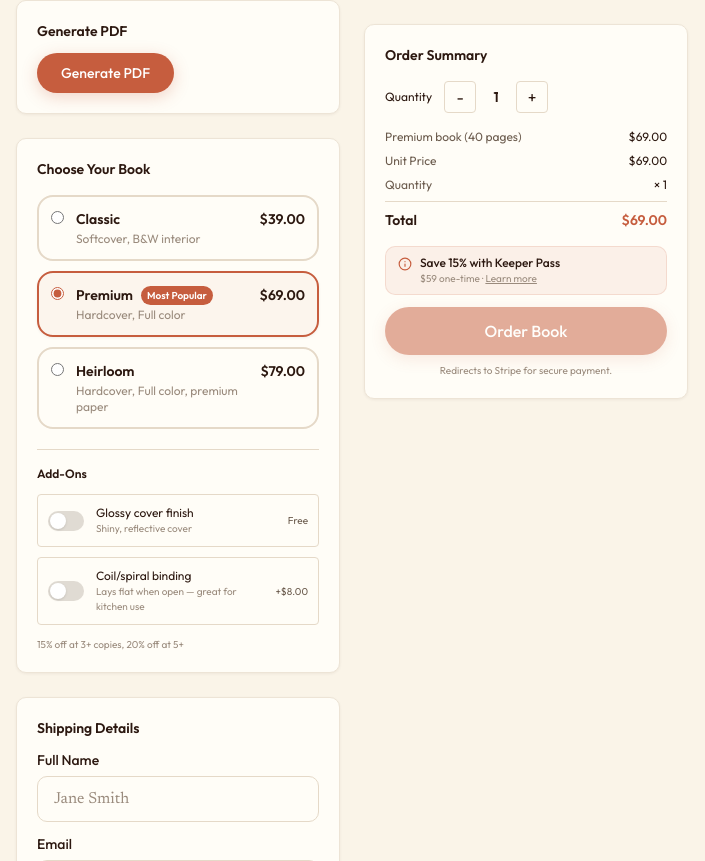
Test case: OrderPanel › shows multi-copy discount when quantity >= 3
The image size is (705, 861).
Click the button "+" at (532, 97), box [516,81,548,113]
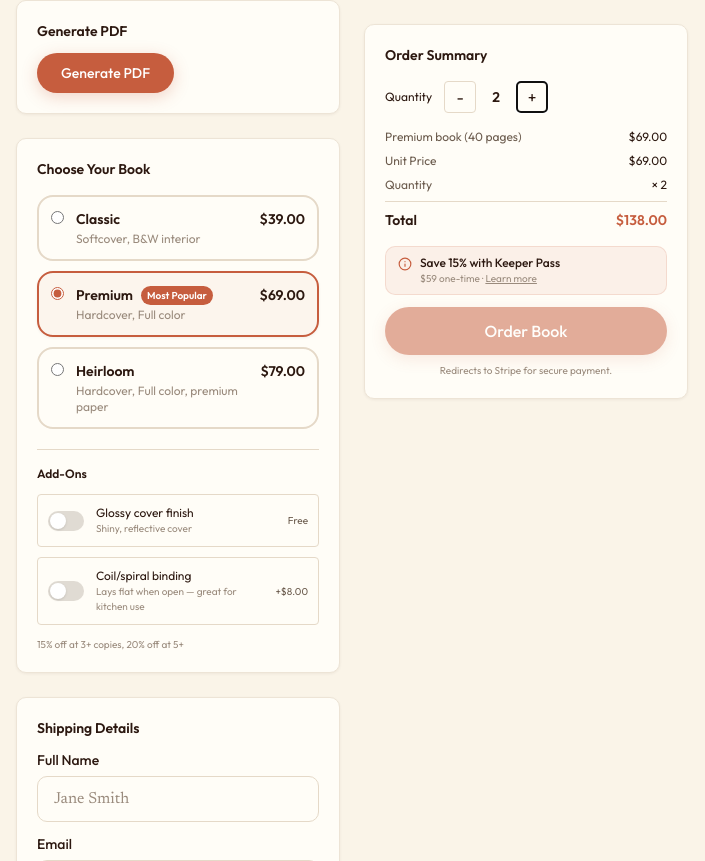
Click the button "+" at (532, 97), box [516,81,548,113]
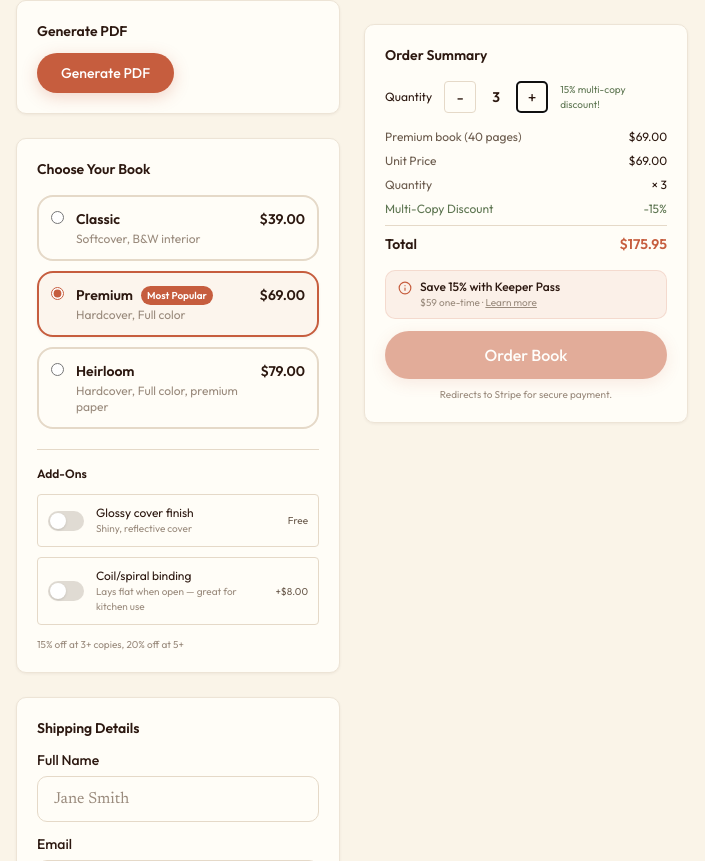
Now the text "Multi-Copy Discount" is shown, box [385,201,493,217]
